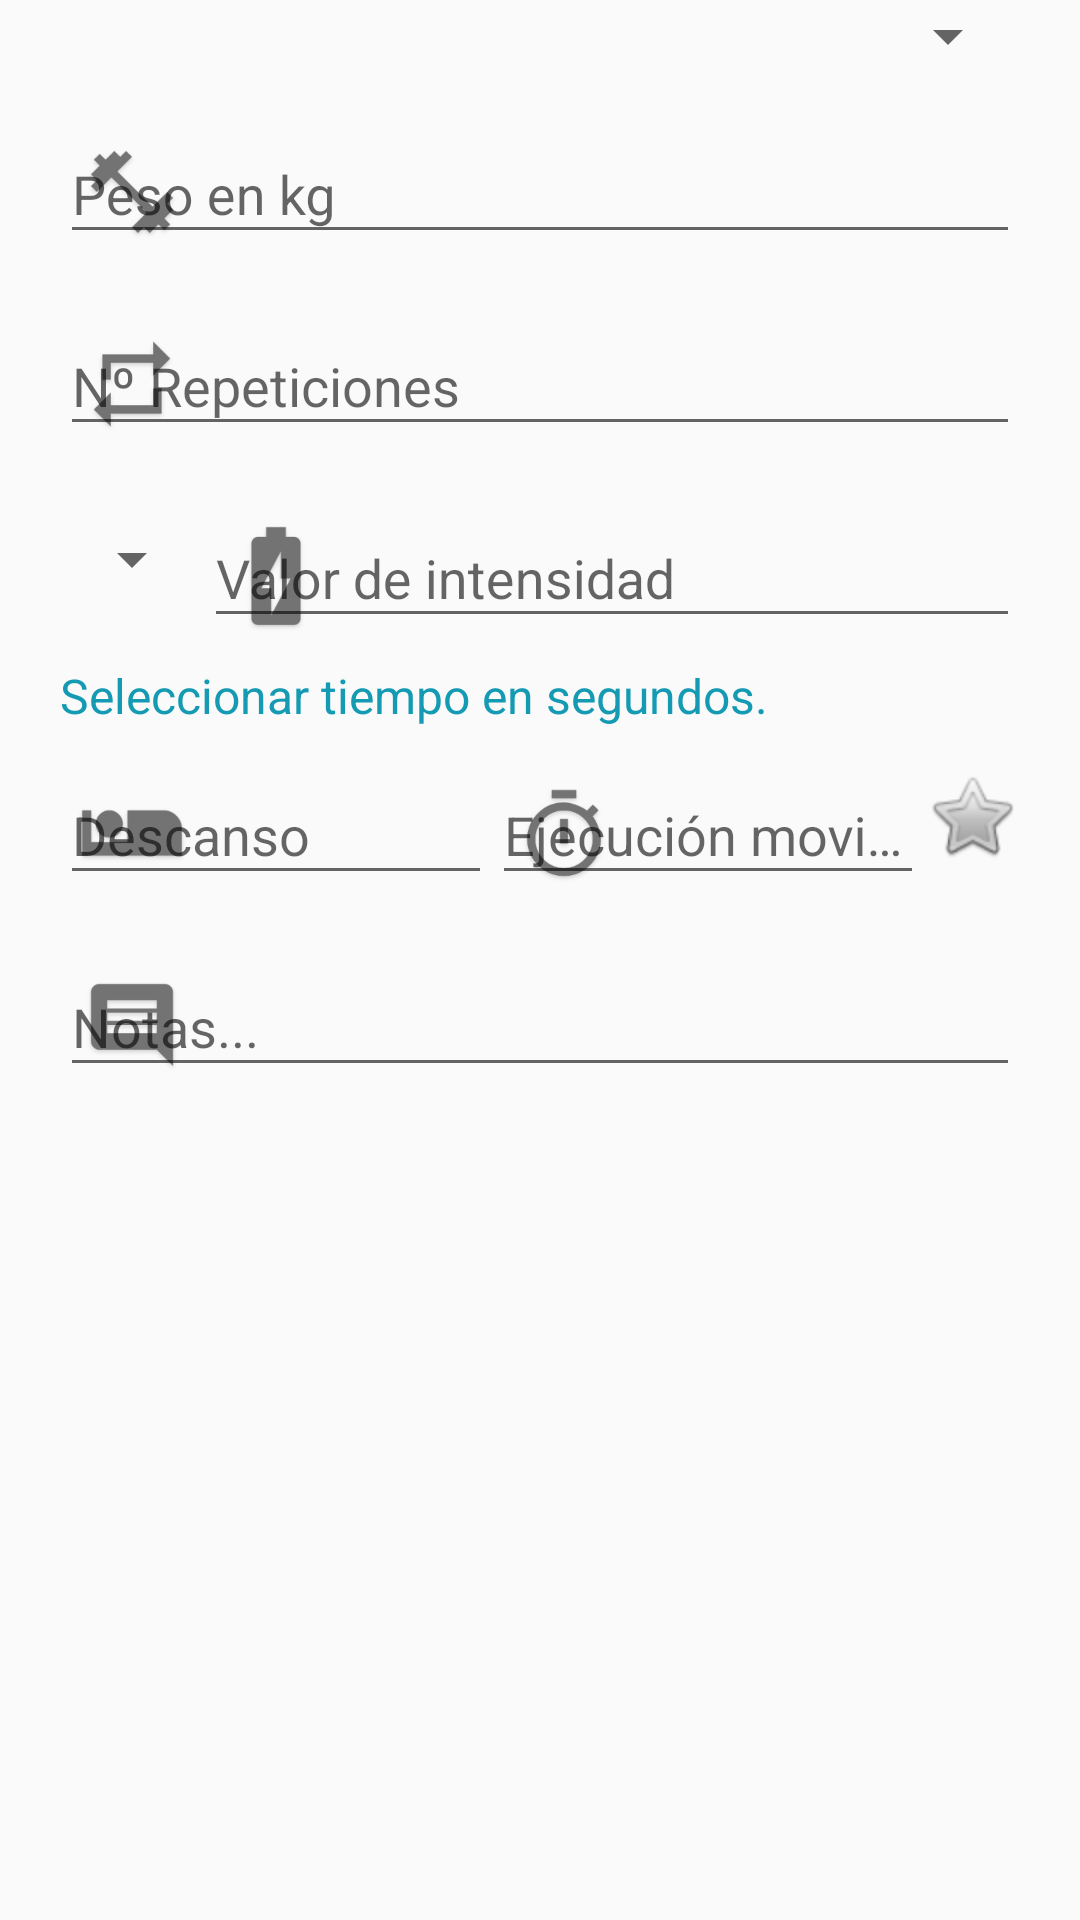

Icons on this 1080px×1920px Android screen, each with its box as (x1=x1, y1=y1, x2=x2, y2=y2):
star: (x1=933, y1=778, x2=1013, y2=856)
